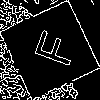F: (25, 25, 78, 69)
